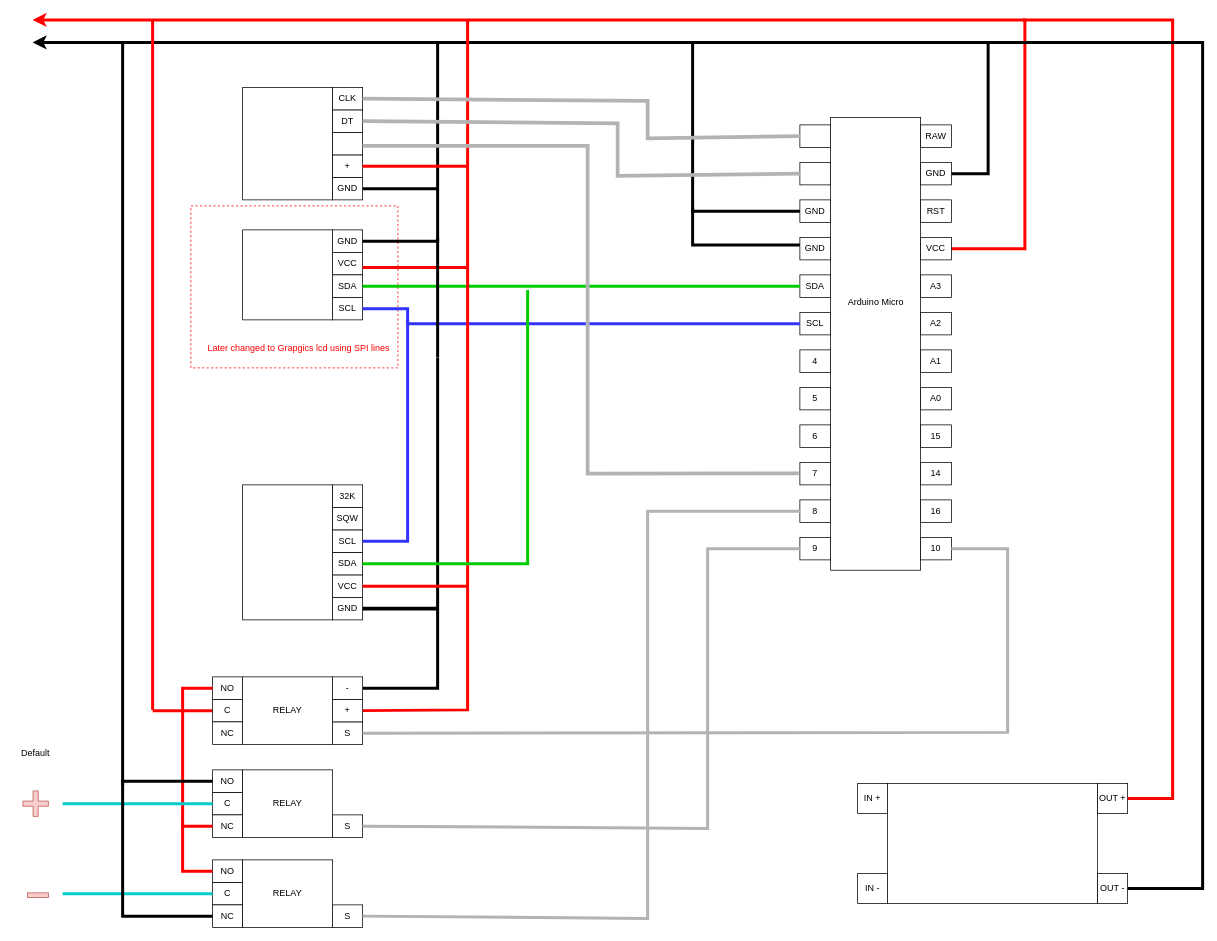
The diagram is 1217 pixels wide and 941 high, and some of its shapes have lost their labels. The shapes that lost their labels are listed below. From the top down, each one's centre as x and y in pixels, then its label:
At point 287,143: "ROTARY SWITCH".
At point 347,143: "SW".
At point 815,135: "TX0".
At point 815,173: "RX1".
At point 287,274: "SCREEN".
At point 287,552: "RTC".
At point 992,843: "POWER SUPPLY (LM 2596)".
